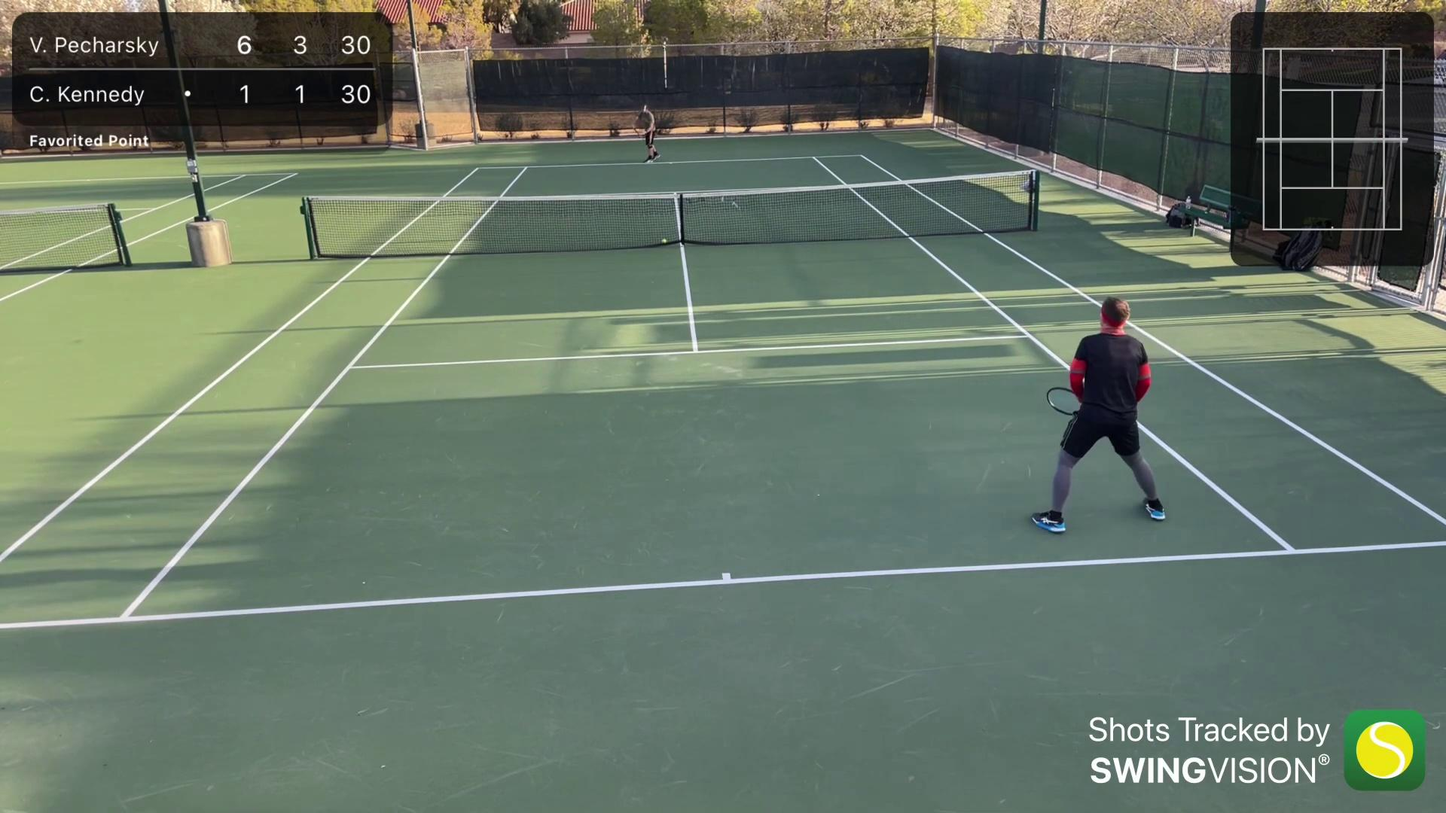ball: (661, 238, 668, 244)
